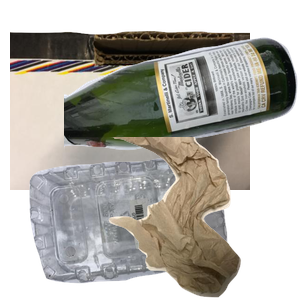cardboard: (10, 29, 250, 209)
glass: (64, 35, 300, 181)
plastic: (27, 152, 247, 300)
trash: (103, 137, 300, 300)
